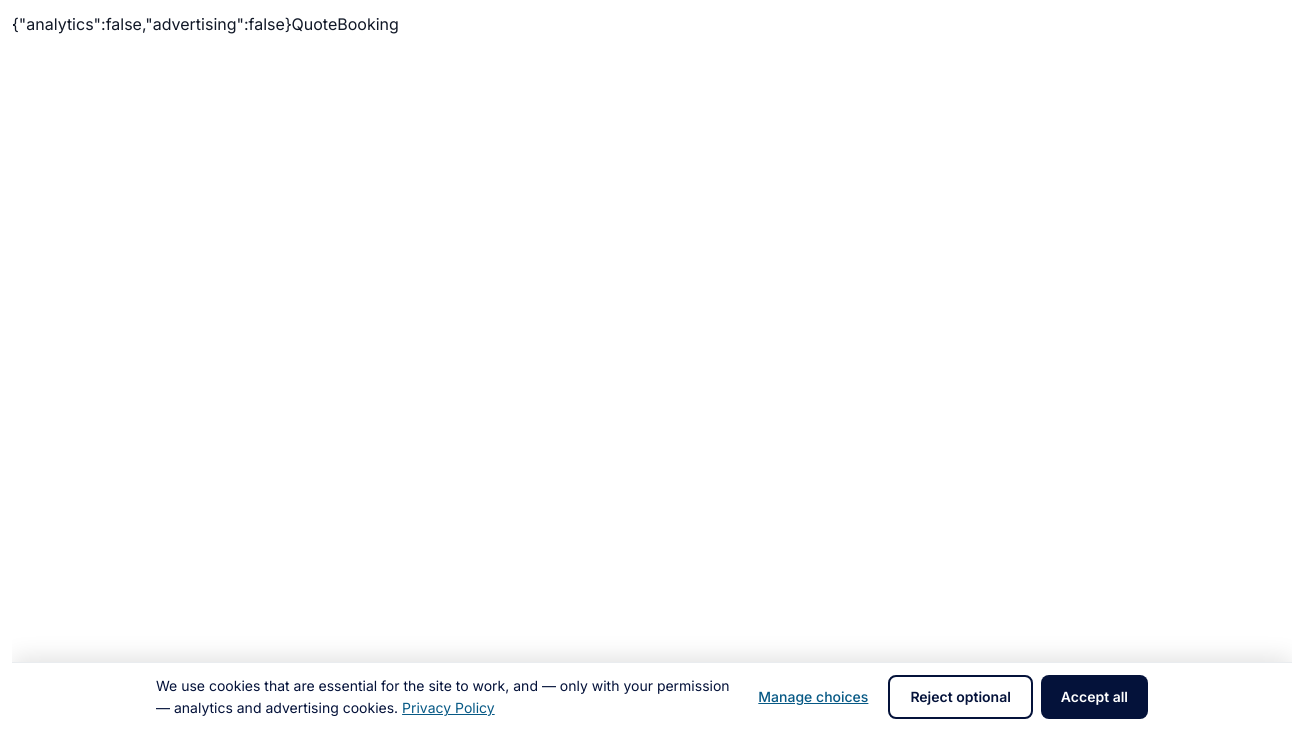
Test case: consent record consistency › retains complete proof when saving a new acceptance fails
The width and height of the screenshot is (1292, 732).
Click the button "Accept all".
click(1094, 697)  # box [1041,675,1148,719]
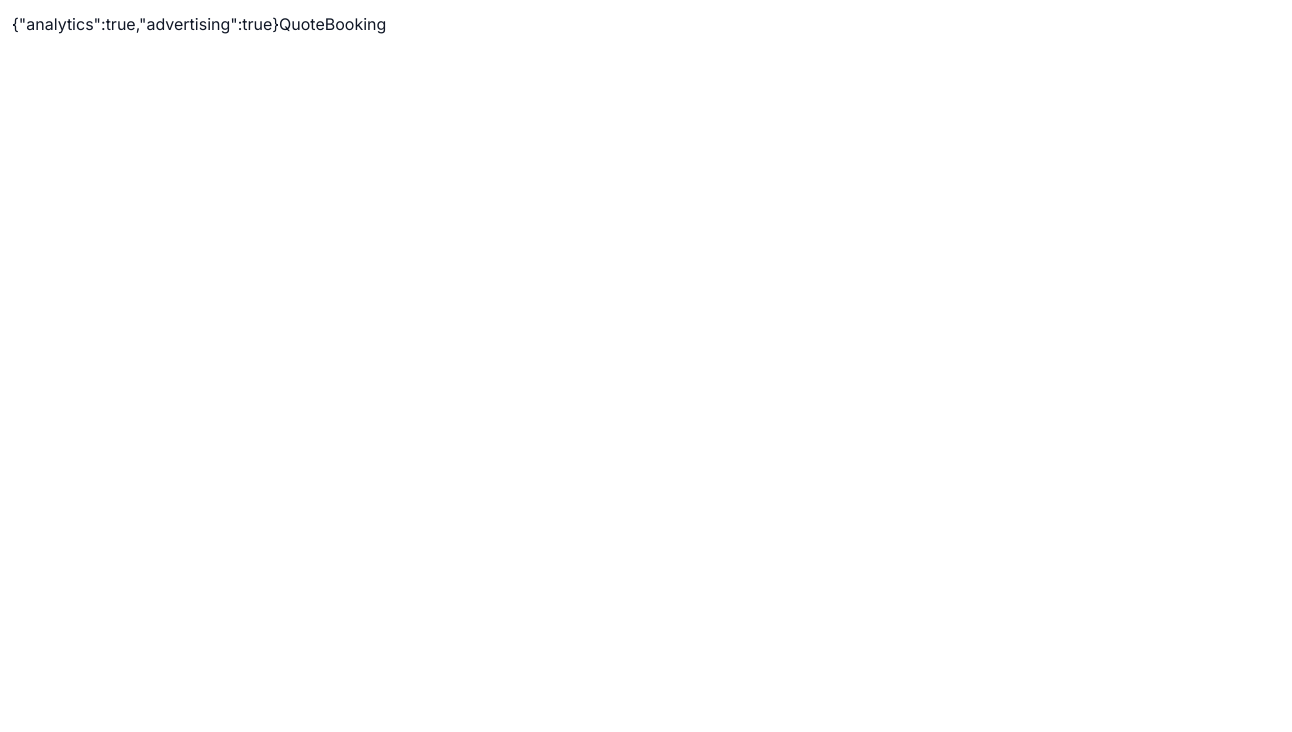
Expected: the button "Accept all" is gone
